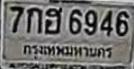4: (100, 10, 111, 36)
6: (115, 10, 128, 35), (68, 8, 81, 33)
7: (9, 5, 23, 32)
9: (84, 9, 96, 34)
A01: (26, 6, 41, 33)
A44: (44, 6, 61, 34)
BKK: (20, 43, 114, 62)
